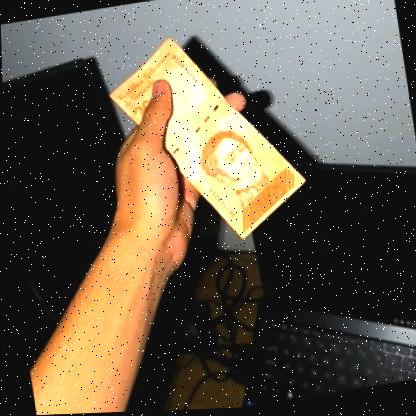vef_front: (99, 20, 312, 259)
